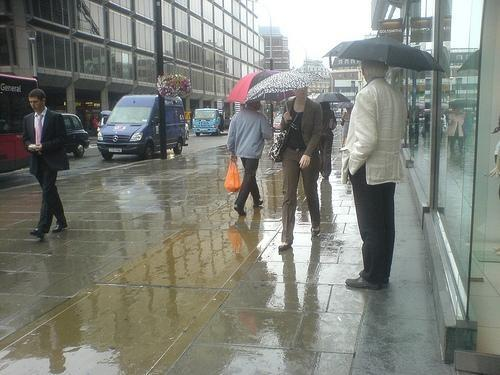car: (60, 113, 90, 157), (272, 117, 283, 132)
truck: (97, 92, 190, 162), (193, 107, 225, 137)
